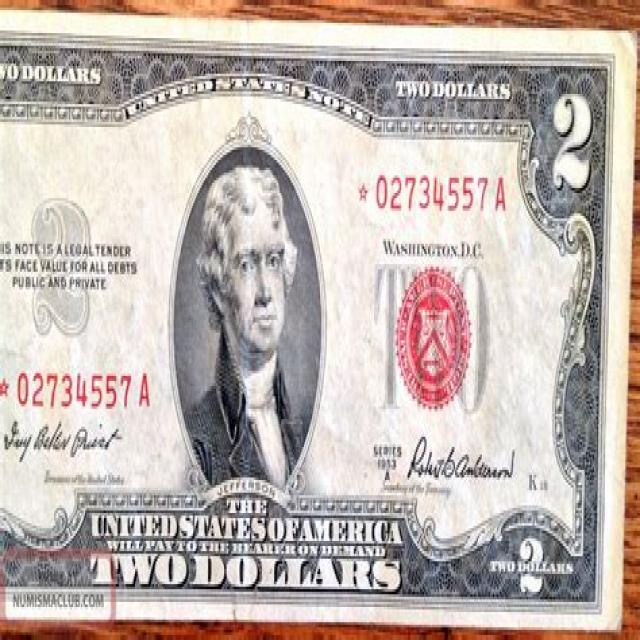Twenty: (0, 10, 636, 619)
